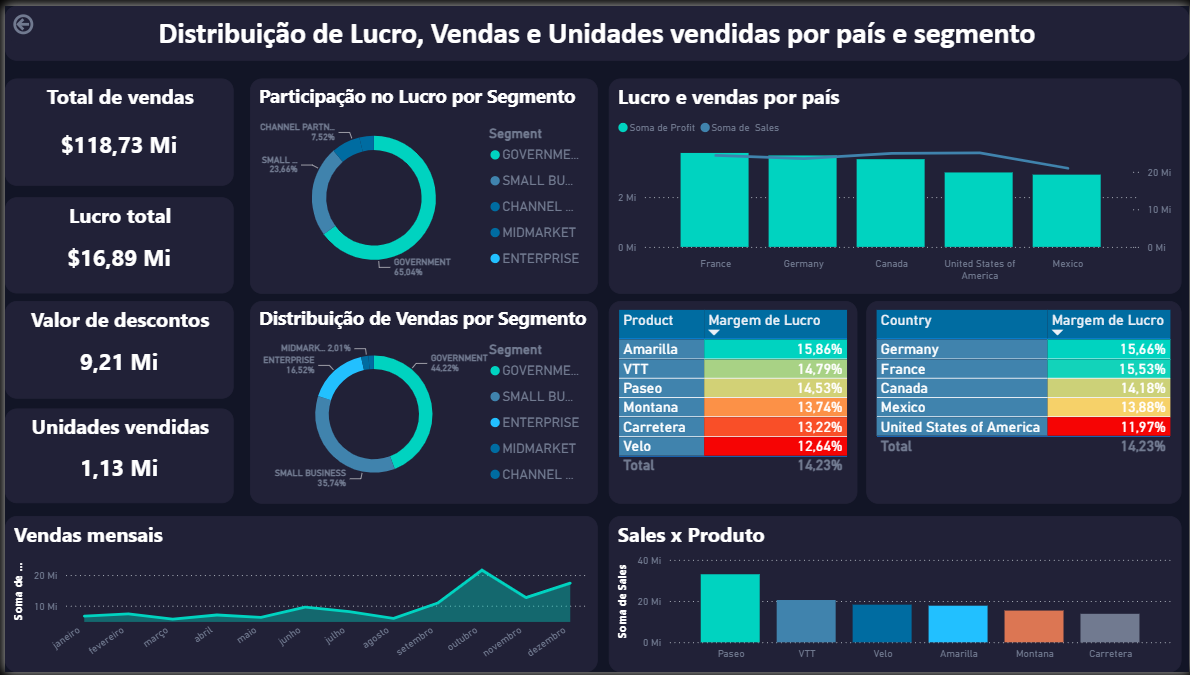

This screenshot's page, from the dashboard's own definition file:
{"tool":"powerbi","page":{"name":"Página 3","canvas":[1280,720],"ordinal":0},"visuals":[{"type":"donutChart","title":"Participação no Lucro por Segmento","fields":{"Category":["financials.Segment"],"Y":["Sum(financials.Profit)"]},"box":[264.9,78.4,375.7,232.4],"z":0},{"type":"donutChart","title":"Distribuição de Vendas por Segmento","fields":{"Y":["Sum(financials. Sales)"],"Category":["financials.Segment"]},"box":[264.9,318.9,375.7,218.9],"z":1000},{"type":"textbox","box":[0,0,1280,59.1],"z":3000},{"type":"card","title":"Lucro total","fields":{"Values":["Sum(financials.Profit)"]},"box":[0,206.8,247.3,104.1],"z":4000},{"type":"actionButton","box":[0,0,100,40],"z":5000},{"type":"card","title":"Unidades vendidas","fields":{"Values":["Sum(financials.Units Sold)"]},"box":[0,435.1,247.3,102.7],"z":6000},{"type":"card","title":"Total de vendas","fields":{"Values":["Sum(financials. Sales)"]},"box":[0,78.4,247.3,116.2],"z":7000},{"type":"clusteredColumnChart","title":"Sales x Produto","fields":{"Category":["financials.Product"],"Y":["Sum(financials. Sales)"]},"box":[652.7,551.4,627,168.9],"z":8000},{"type":"card","title":"Valor de descontos","fields":{"Values":["Sum(financials.Discounts)"]},"box":[0,318.9,247.3,105.4],"z":9000},{"type":"areaChart","title":"Vendas mensais","fields":{"Category":["financials.Date.Variation.Hierarquia de datas.Mês"],"Y":["Sum(financials. Sales)"]},"box":[0,551.4,640.5,168.9],"z":10000},{"type":"lineClusteredColumnComboChart","title":"Lucro e vendas por país","fields":{"Category":["financials.Country"],"Y2":["Sum(financials. Sales)"],"Y":["Sum(financials.Profit)"]},"box":[652.7,78.4,627,232.4],"z":11000},{"type":"tableEx","fields":{"Values":["financials.Country","financials.Margem de Lucro"]},"box":[939.2,318.9,340.5,218.9],"z":12000},{"type":"tableEx","fields":{"Values":["financials.Product","financials.Margem de Lucro"]},"box":[652.7,318.9,275.7,218.9],"z":13000}]}

Visuals, with their boxes in screenshot pixels (x1, y1, x2, y2), scaled from the page's 1280x720 canvas onto the 1190x675 screenshot:
"Participação no Lucro por Segmento" donutChart: rect(246, 74, 596, 291)
"Distribuição de Vendas por Segmento" donutChart: rect(246, 299, 596, 504)
textbox: rect(0, 0, 1189, 55)
"Lucro total" card: rect(0, 194, 230, 291)
actionButton: rect(0, 0, 93, 38)
"Unidades vendidas" card: rect(0, 408, 230, 504)
"Total de vendas" card: rect(0, 74, 230, 182)
"Sales x Produto" clusteredColumnChart: rect(607, 517, 1189, 674)
"Valor de descontos" card: rect(0, 299, 230, 398)
"Vendas mensais" areaChart: rect(0, 517, 595, 674)
"Lucro e vendas por país" lineClusteredColumnComboChart: rect(607, 74, 1189, 291)
tableEx - financials.Country x financials.Margem de Lucro: rect(873, 299, 1189, 504)
tableEx - financials.Product x financials.Margem de Lucro: rect(607, 299, 863, 504)
